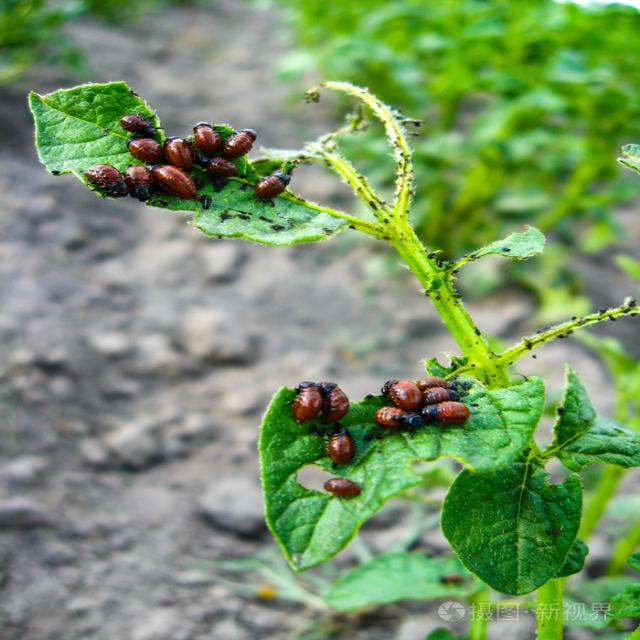ShuCaiHuaBanChong-Larva-: (66, 162, 133, 207), (244, 166, 304, 208), (416, 397, 474, 431), (369, 404, 417, 442), (217, 120, 261, 160), (158, 139, 208, 172), (107, 115, 166, 141), (123, 158, 156, 204), (317, 383, 351, 425), (326, 471, 371, 501), (320, 428, 362, 460), (156, 168, 203, 196), (286, 382, 318, 422), (382, 374, 418, 408), (417, 375, 456, 403), (187, 122, 220, 152), (133, 143, 173, 166)
